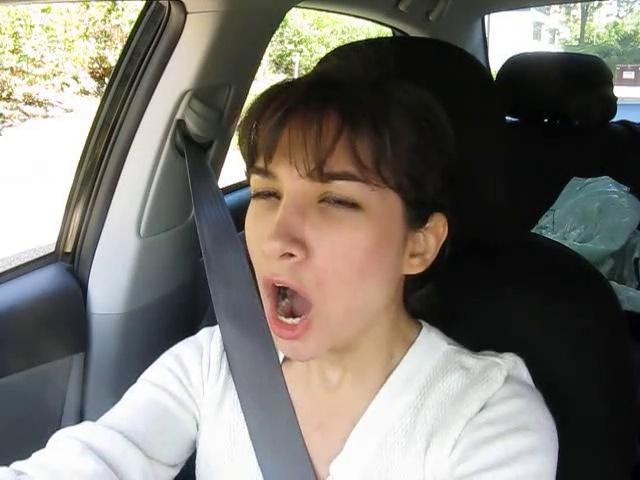close_eyeL: (242, 180, 291, 214)
close_eyeR: (303, 183, 377, 222)
yawn: (244, 273, 333, 346)
